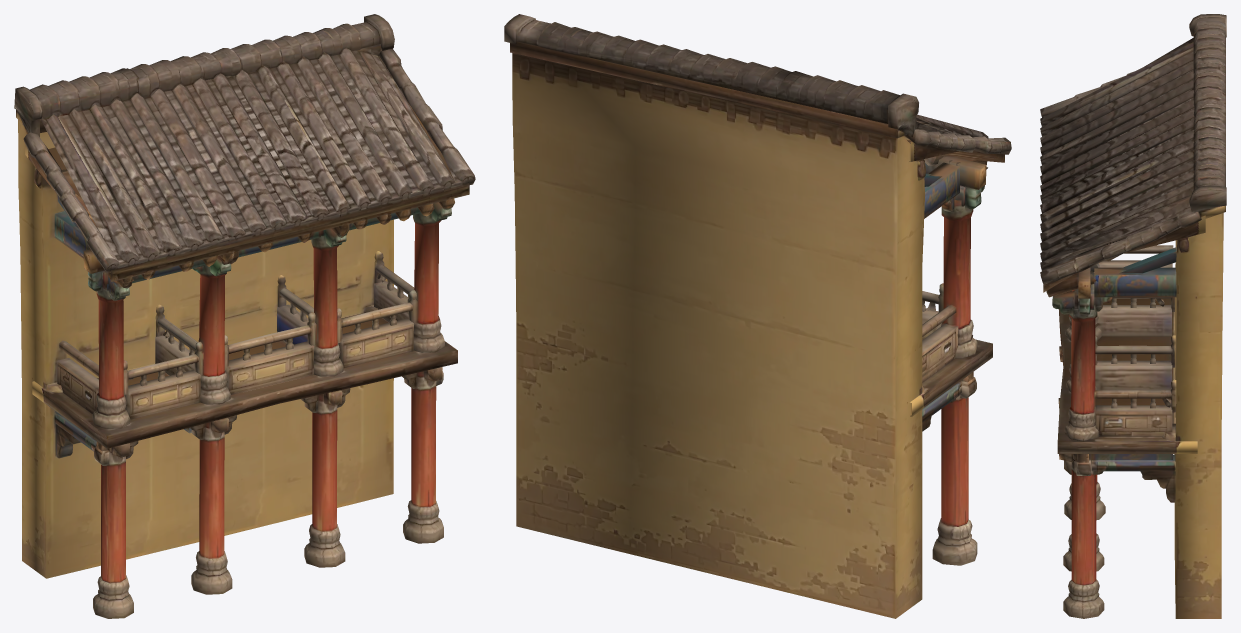
The model's file is SM_Tripo_DesertCloister.glb.
3 renders of one model, left to right at view 1: azimuth 30°, elevation 25°; view 2: azimuth 150°, elevation 25°; view 3: azimuth 270°, elevation 25°, orthographic. The views are drawn at different scales.
Visible parts, largest first — view 1: SM_Tripo_DesertCloister_LOD0; view 2: SM_Tripo_DesertCloister_LOD0; view 3: SM_Tripo_DesertCloister_LOD0.
Part boxes in pixels (x1,y1,x2,y2): SM_Tripo_DesertCloister_LOD0: (14,14,475,618); SM_Tripo_DesertCloister_LOD0: (504,14,1011,618); SM_Tripo_DesertCloister_LOD0: (1040,14,1226,618).
Size of the model in its own units: 6.17 by 7.5 by 2.85.
1 material, 1 textured.
